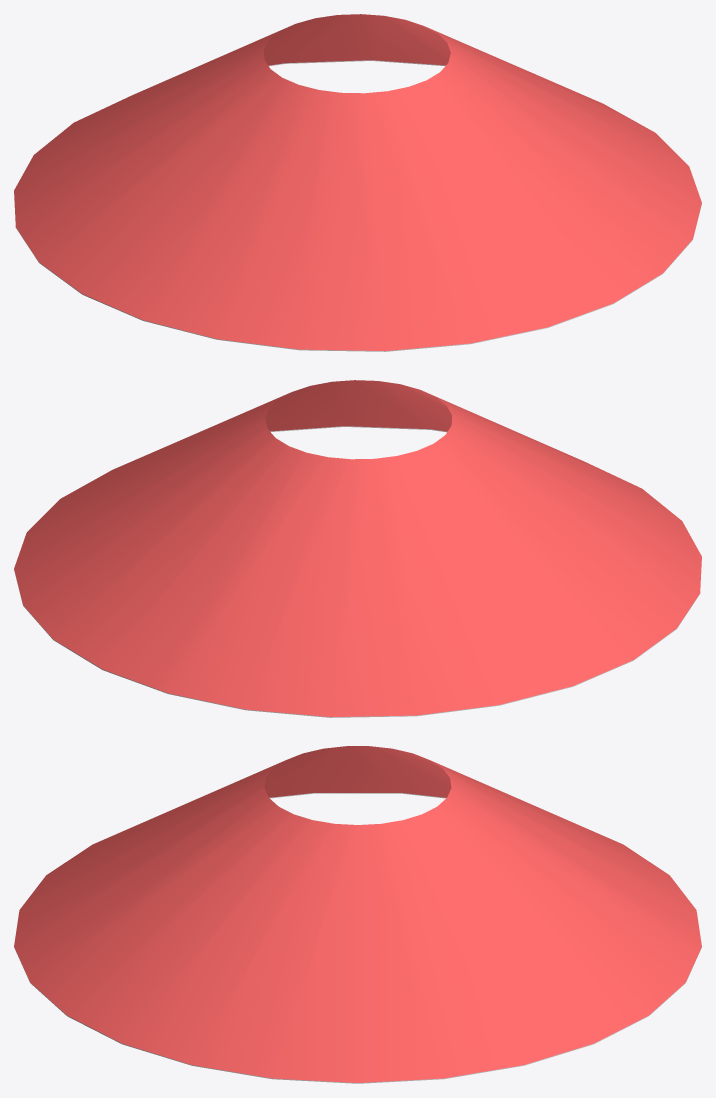
Rendered from pink_cone.dae.
3 views of the same model, one above another, from view 1: azimuth 30°, elevation 25°; view 2: azimuth 150°, elevation 25°; view 3: azimuth 270°, elevation 25° (orthographic).
Parts seen in each view (by area): view 1: SketchUp (×2); view 2: SketchUp (×2); view 3: SketchUp (×2).
Part boxes in pixels (left/top/right/bottom): SketchUp (×2): left=14, top=14, right=701, bottom=351; SketchUp (×2): left=14, top=380, right=701, bottom=717; SketchUp (×2): left=14, top=746, right=701, bottom=1083.
Bounding box in the file's own units: 7.25 × 7.27 × 1.78.
